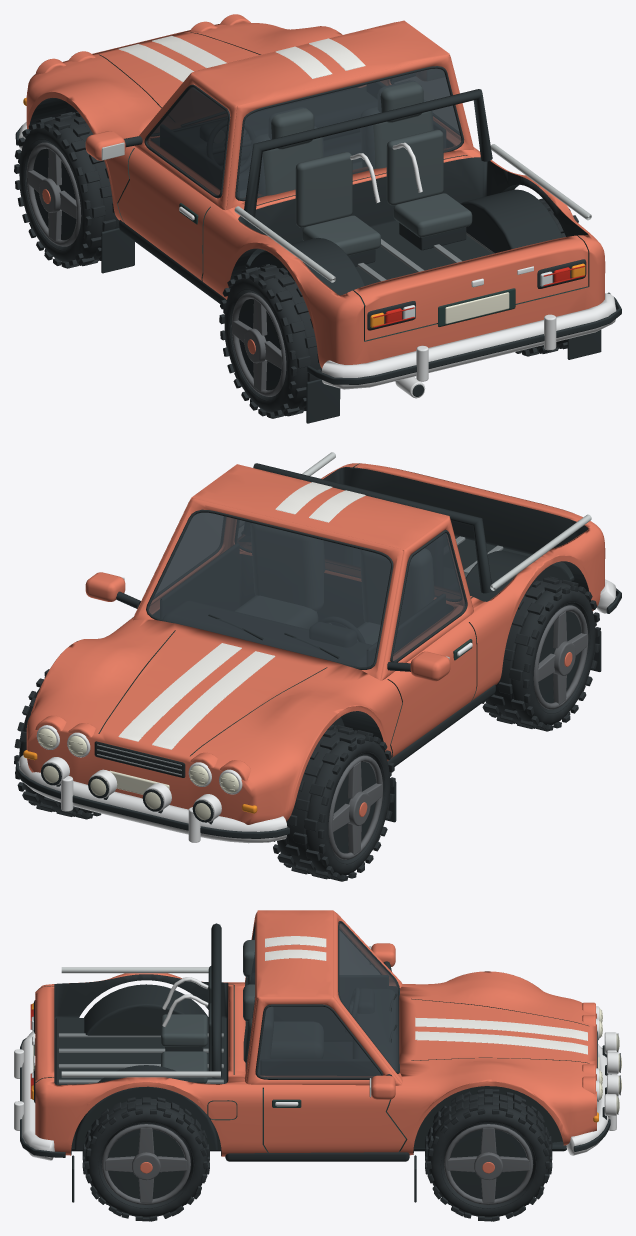
The model's file is kiri_lod1.fbx.
3 views of the same model, one above another, from view 1: azimuth 30°, elevation 25°; view 2: azimuth 150°, elevation 25°; view 3: azimuth 270°, elevation 25° (orthographic). The views are drawn at different scales.
Parts seen in each view (by area): view 1: Body, Wheel_FL_Mesh, Wheel_RL_Mesh, Wheel_RR_Mesh; view 2: Body, Wheel_FL_Mesh, Wheel_RL_Mesh, Wheel_FR_Mesh; view 3: Body, Wheel_FR_Mesh, Wheel_RR_Mesh.
Boxes of the visible parts, left/top/right/bottom form: Body: left=15, top=14, right=621, bottom=423; Wheel_FL_Mesh: left=14, top=111, right=119, bottom=268; Wheel_RL_Mesh: left=219, top=264, right=321, bottom=418; Wheel_RR_Mesh: left=515, top=198, right=578, bottom=356; Body: left=15, top=452, right=621, bottom=843; Wheel_FL_Mesh: left=273, top=725, right=395, bottom=881; Wheel_RL_Mesh: left=482, top=576, right=600, bottom=731; Wheel_FR_Mesh: left=14, top=669, right=101, bottom=819; Body: left=14, top=910, right=621, bottom=1202; Wheel_FR_Mesh: left=425, top=1089, right=552, bottom=1221; Wheel_RR_Mesh: left=82, top=1097, right=209, bottom=1221.
Size of the model in its own units: 234 by 162 by 416.
